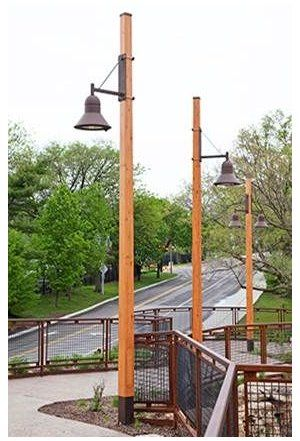light_pole: (107, 9, 144, 432), (189, 94, 208, 352), (241, 173, 256, 350)
